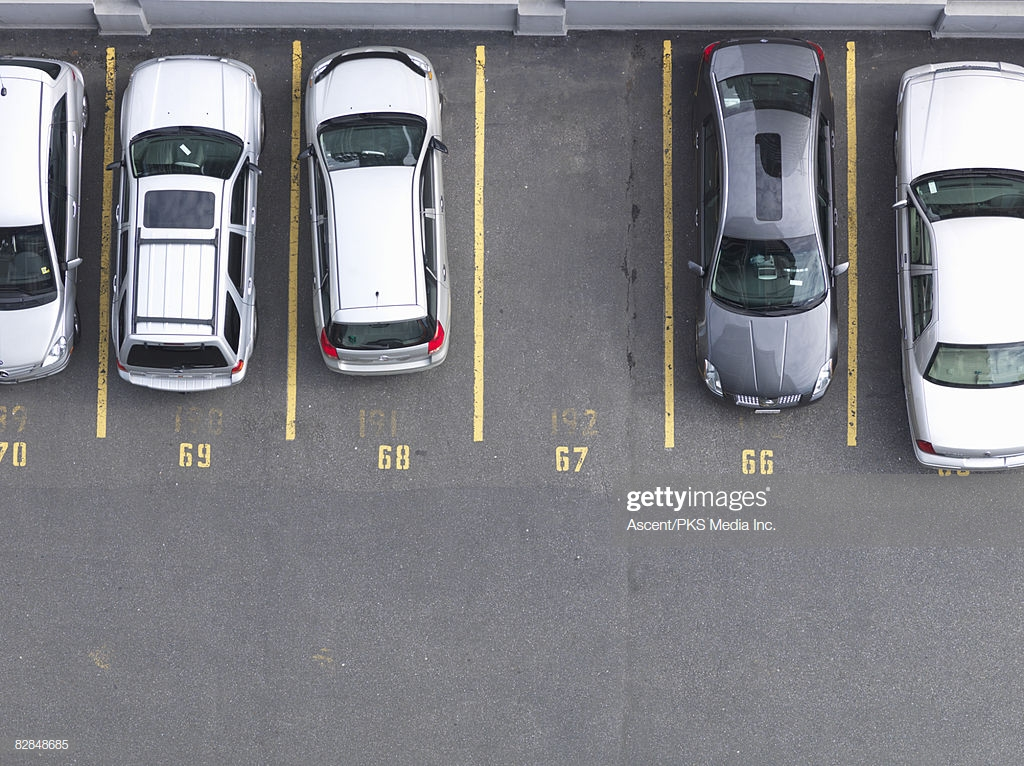car: (690, 40, 841, 405), (897, 70, 1024, 480), (117, 53, 265, 387), (307, 51, 462, 368), (1, 49, 70, 373)
